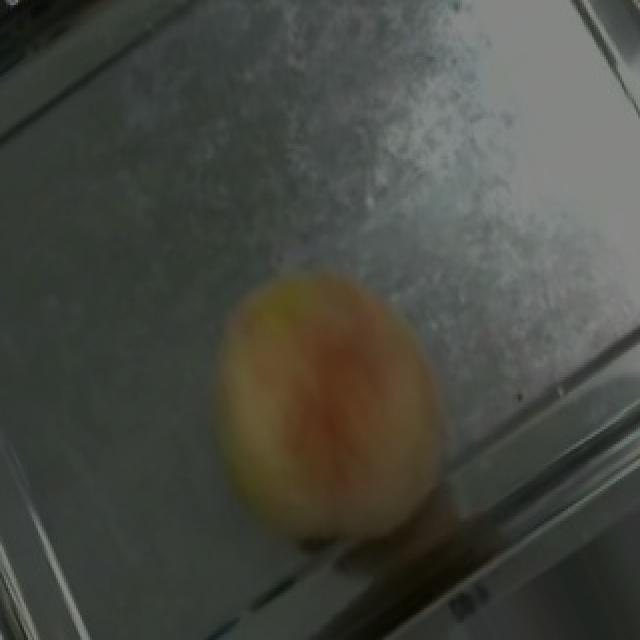Fruit: (160, 226, 494, 598)
